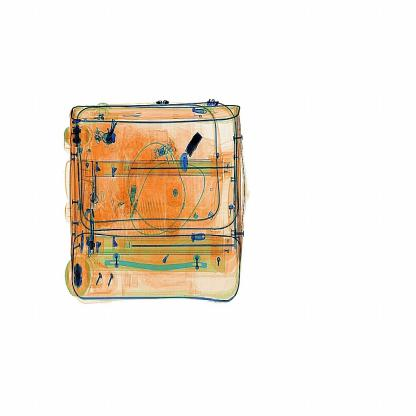scissors: (184, 128, 209, 164)
